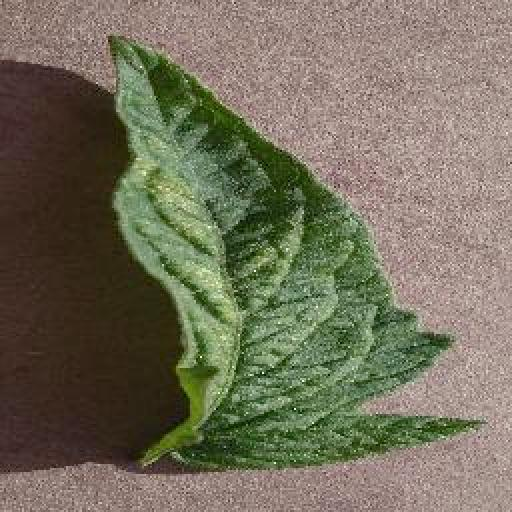disease_tomato: (107, 26, 488, 476)
